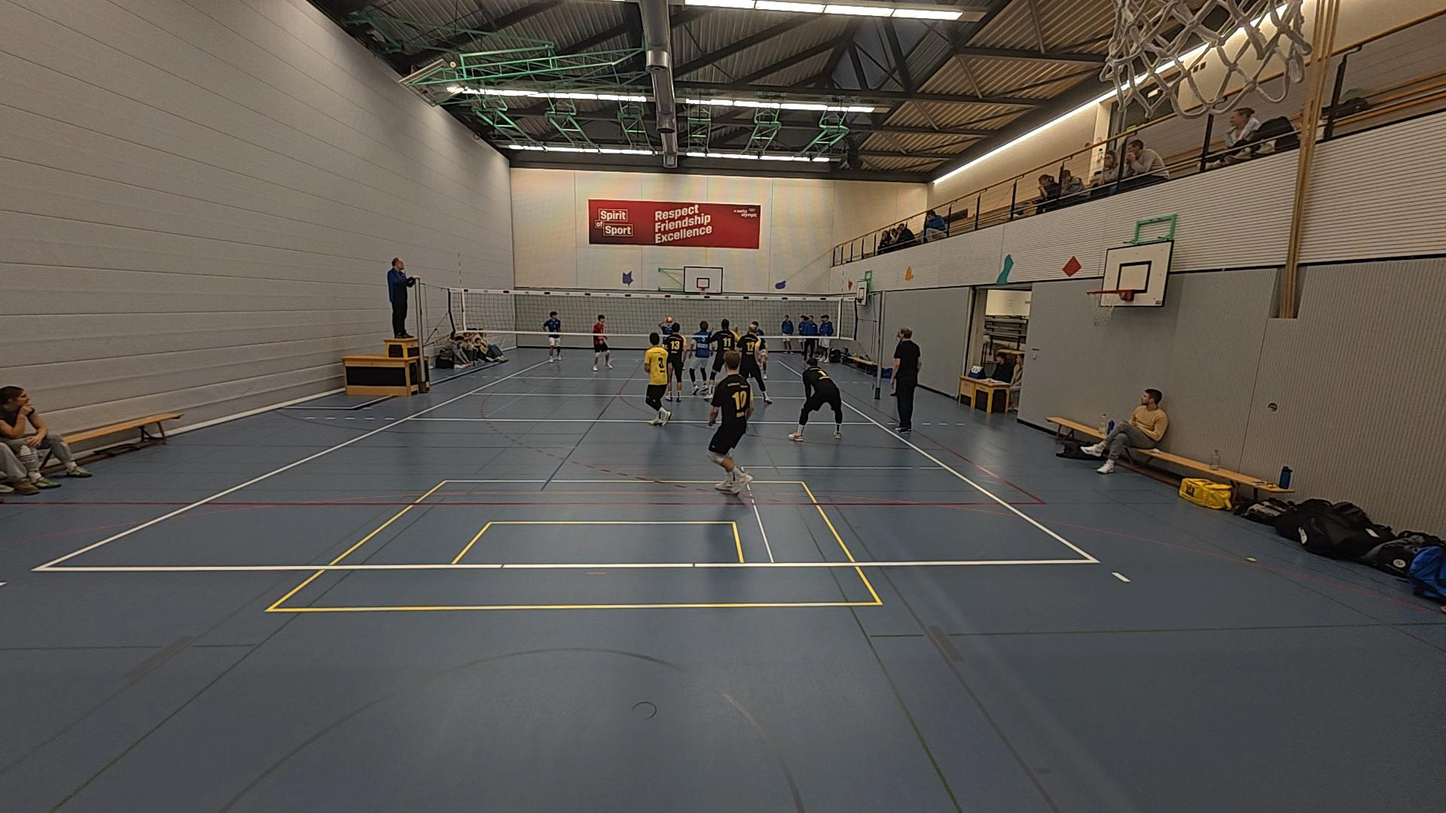ricezione: (656, 317, 685, 371)
